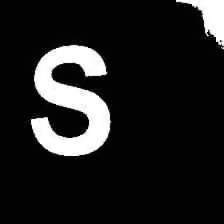LTR_S: (23, 36, 116, 163)
